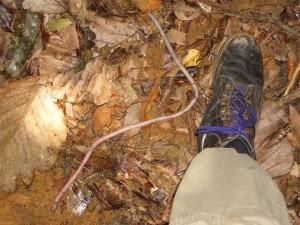earthworms: (14, 4, 210, 215)
